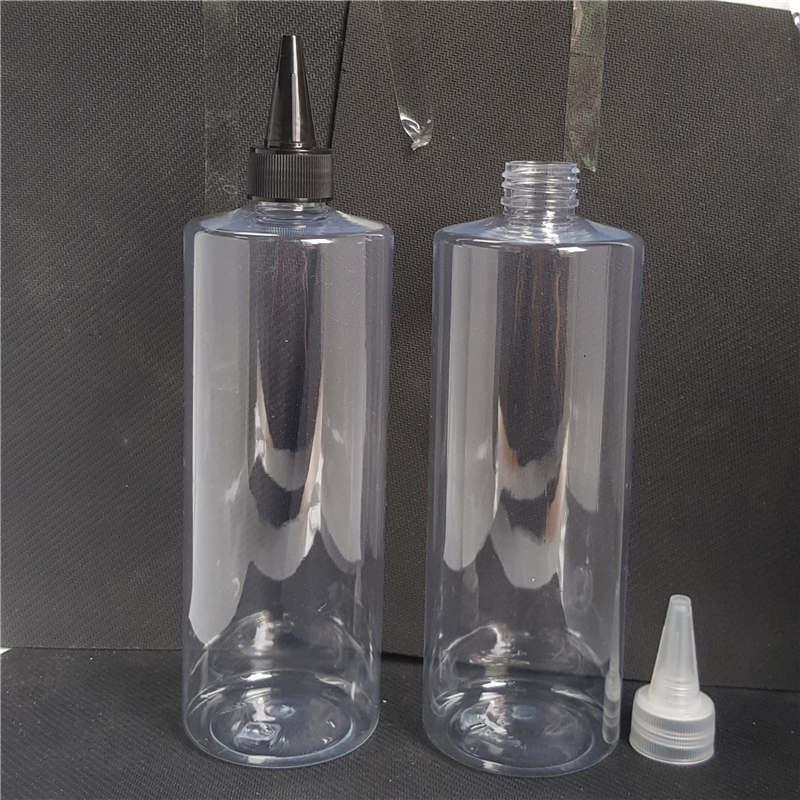HDPE: (627, 595, 717, 764), (247, 34, 333, 200)
PET: (433, 162, 640, 772), (186, 202, 388, 768)
